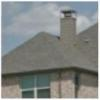chimneys: (59, 7, 76, 42)
